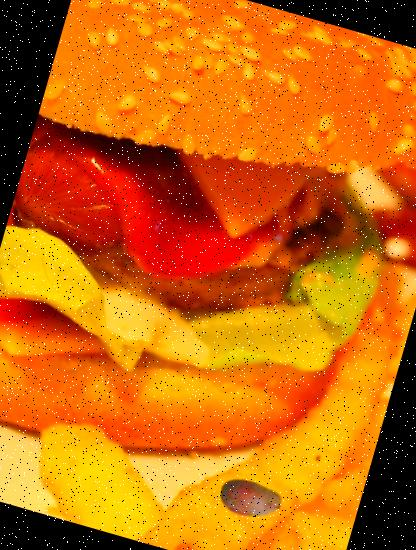Potato: (210, 457, 295, 542)
